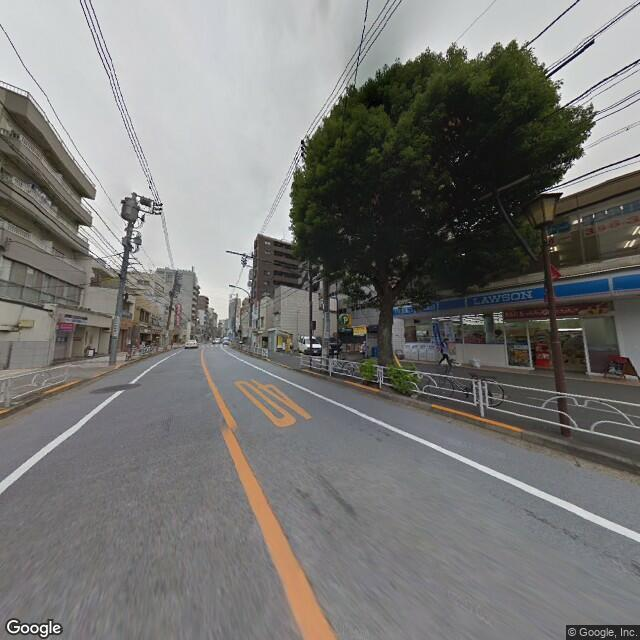lawson: (391, 264, 638, 322)
